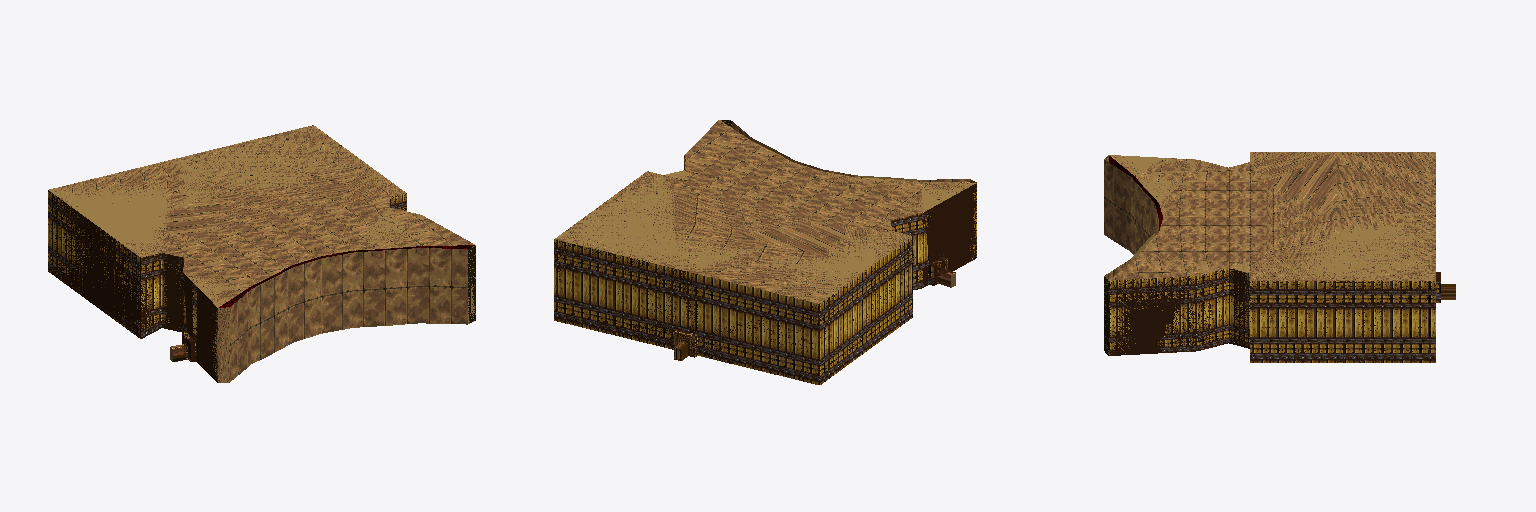
The picture shows the model from 3 angles: view 1: azimuth 30°, elevation 25°; view 2: azimuth 150°, elevation 25°; view 3: azimuth 270°, elevation 25°; orthographic projection.
Parts seen in each view (by area): view 1: #Room0#_Room1#NoCollision.001_stonefloor2., #Room0#_CollisionCube#NoMesh.001_stonefloor2., #Room0#_CollisionCube#NoMesh.001_wood#SFX_A#MirrorX, #Room0#_Room1#NoCollision.001_wood#SFX_A#MirrorX, #Room0#_Room1#NoCollision.001_cloth.; view 2: #Room0#_Room1#NoCollision.001_wood#SFX_A#MirrorX, #Room0#_Room1#NoCollision.001_stonefloor2., #Room0#_CollisionCube#NoMesh.001_stonefloor2., #Room0#_CollisionCube#NoMesh.001_wood#SFX_A#MirrorX, #Room0#_Room1#NoCollision.001_CASTLEVANIA2.; view 3: #Room0#_Room1#NoCollision.001_stonefloor2., #Room0#_Room1#NoCollision.001_wood#SFX_A#MirrorX, #Room0#_CollisionCube#NoMesh.001_stonefloor2., #Room0#_CollisionCube#NoMesh.001_wood#SFX_A#MirrorX.
Boxes of the visible parts, x1=… form: #Room0#_Room1#NoCollision.001_stonefloor2.: x1=49, y1=125, x2=475, y2=382; #Room0#_CollisionCube#NoMesh.001_stonefloor2.: x1=49, y1=126, x2=475, y2=382; #Room0#_CollisionCube#NoMesh.001_wood#SFX_A#MirrorX: x1=48, y1=190, x2=406, y2=382; #Room0#_Room1#NoCollision.001_wood#SFX_A#MirrorX: x1=48, y1=192, x2=406, y2=381; #Room0#_Room1#NoCollision.001_cloth.: x1=219, y1=245, x2=474, y2=307; #Room0#_Room1#NoCollision.001_wood#SFX_A#MirrorX: x1=554, y1=158, x2=976, y2=384; #Room0#_Room1#NoCollision.001_stonefloor2.: x1=556, y1=120, x2=975, y2=303; #Room0#_CollisionCube#NoMesh.001_stonefloor2.: x1=555, y1=120, x2=976, y2=302; #Room0#_CollisionCube#NoMesh.001_wood#SFX_A#MirrorX: x1=554, y1=156, x2=976, y2=384; #Room0#_Room1#NoCollision.001_CASTLEVANIA2.: x1=674, y1=258, x2=954, y2=360; #Room0#_Room1#NoCollision.001_stonefloor2.: x1=1104, y1=152, x2=1435, y2=355; #Room0#_Room1#NoCollision.001_wood#SFX_A#MirrorX: x1=1109, y1=268, x2=1440, y2=362; #Room0#_CollisionCube#NoMesh.001_stonefloor2.: x1=1104, y1=152, x2=1435, y2=353; #Room0#_CollisionCube#NoMesh.001_wood#SFX_A#MirrorX: x1=1109, y1=268, x2=1440, y2=362.
Size of the model in its own units: 2273 by 654 by 2549.
Materials: 21 (19 with a texture image).